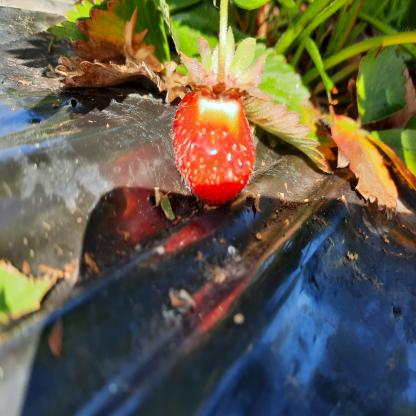ripe: (175, 92, 249, 202)
